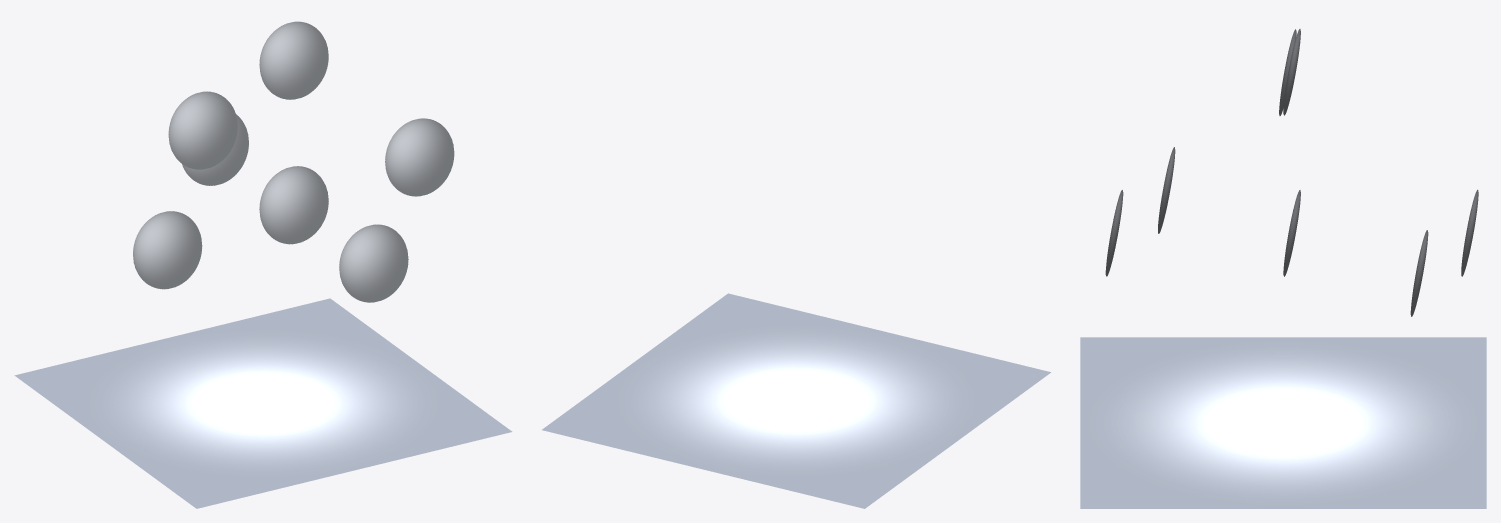
The model's file is level.gltf.
3 renders of one model, left to right at view 1: azimuth 30°, elevation 25°; view 2: azimuth 150°, elevation 25°; view 3: azimuth 270°, elevation 25°, orthographic. The views are drawn at different scales.
Visible parts, largest first — view 1: P_Extra_Point_Floor, P_Extra_Point_Ball3, P_Extra_Point_Ball0, P_Extra_Point_Ball6, P_Extra_Point_Ball2, P_Extra_Point_Ball5, P_Extra_Point_Ball4, P_Extra_Point_Ball1; view 2: P_Extra_Point_Floor; view 3: P_Extra_Point_Floor, P_Extra_Point_Ball2, P_Extra_Point_Ball0, P_Extra_Point_Ball1, P_Extra_Point_Ball3, P_Extra_Point_Ball5, P_Extra_Point_Ball4.
Part boxes in pixels (<box>): P_Extra_Point_Floor: <box>14,298,512,508</box>; P_Extra_Point_Ball3: <box>339,224,408,302</box>; P_Extra_Point_Ball0: <box>259,166,328,244</box>; P_Extra_Point_Ball6: <box>168,91,237,169</box>; P_Extra_Point_Ball2: <box>259,21,328,99</box>; P_Extra_Point_Ball5: <box>385,118,454,196</box>; P_Extra_Point_Ball4: <box>133,211,202,289</box>; P_Extra_Point_Ball1: <box>182,114,248,185</box>; P_Extra_Point_Floor: <box>542,293,1050,508</box>; P_Extra_Point_Floor: <box>1080,337,1486,508</box>; P_Extra_Point_Ball2: <box>1283,29,1300,115</box>; P_Extra_Point_Ball0: <box>1283,190,1300,276</box>; P_Extra_Point_Ball1: <box>1461,189,1478,276</box>; P_Extra_Point_Ball3: <box>1105,190,1123,276</box>; P_Extra_Point_Ball5: <box>1158,147,1175,233</box>; P_Extra_Point_Ball4: <box>1410,230,1428,316</box>.
Bounding box in the file's own units: 4.58 × 5.08 × 4.58.
2 materials, 2 textured.
